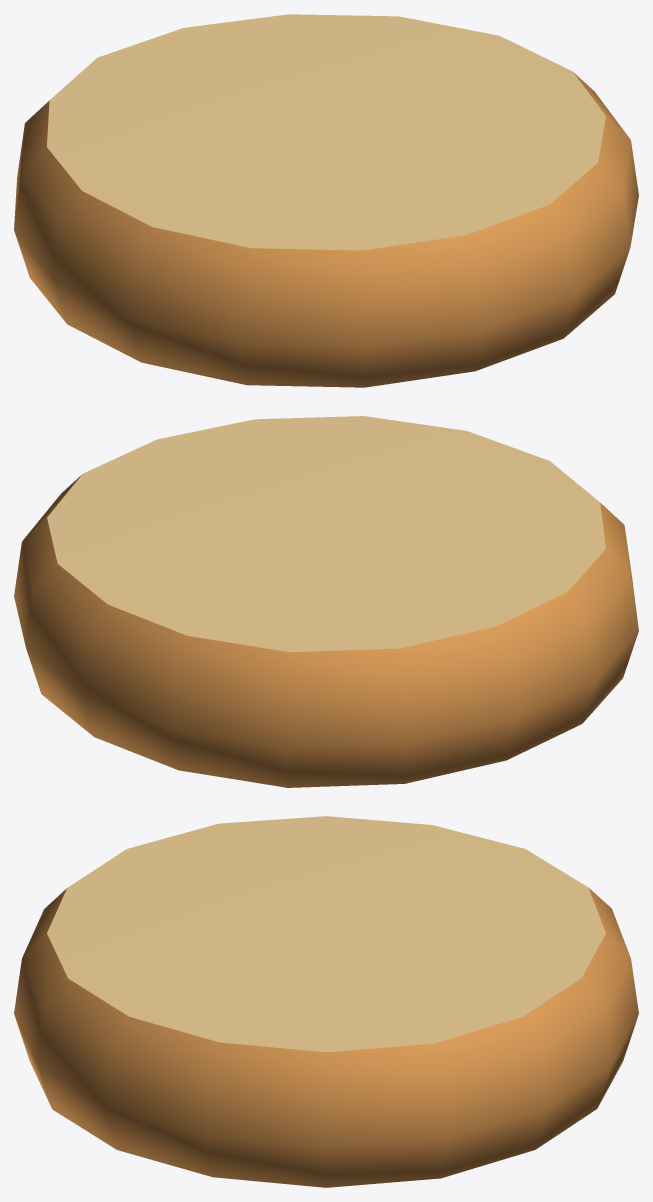
Rendered from pan_hamburguesa_abajo.glb.
3 views of the same model, one above another, from view 1: azimuth 30°, elevation 25°; view 2: azimuth 150°, elevation 25°; view 3: azimuth 270°, elevation 25° (orthographic).
Parts seen in each view (by area): view 1: pan_hamburguesa_abajo; view 2: pan_hamburguesa_abajo; view 3: pan_hamburguesa_abajo.
Boxes of the visible parts, <box> form: pan_hamburguesa_abajo: <box>14,14,638,387</box>; pan_hamburguesa_abajo: <box>14,416,638,787</box>; pan_hamburguesa_abajo: <box>14,816,638,1187</box>.
Size of the model in its own units: 0.11 by 0.03 by 0.11.
